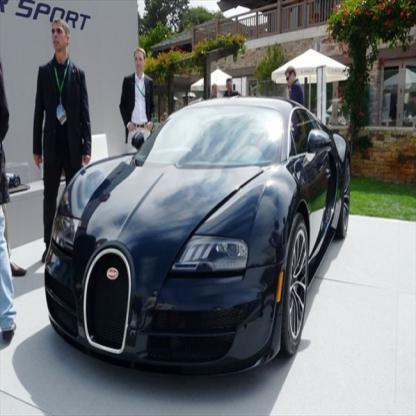Vehicle: (43, 96, 352, 379)
